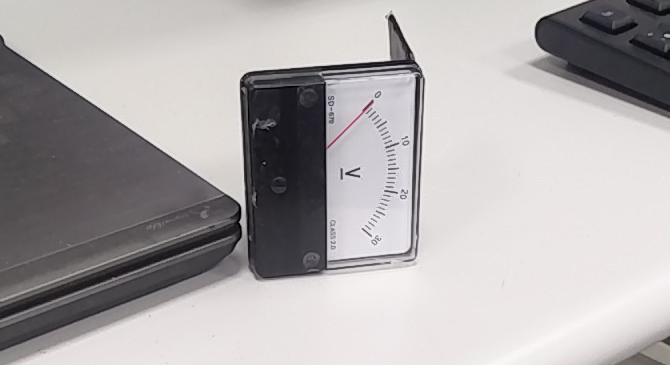Volt_Meter: (318, 61, 426, 275)
